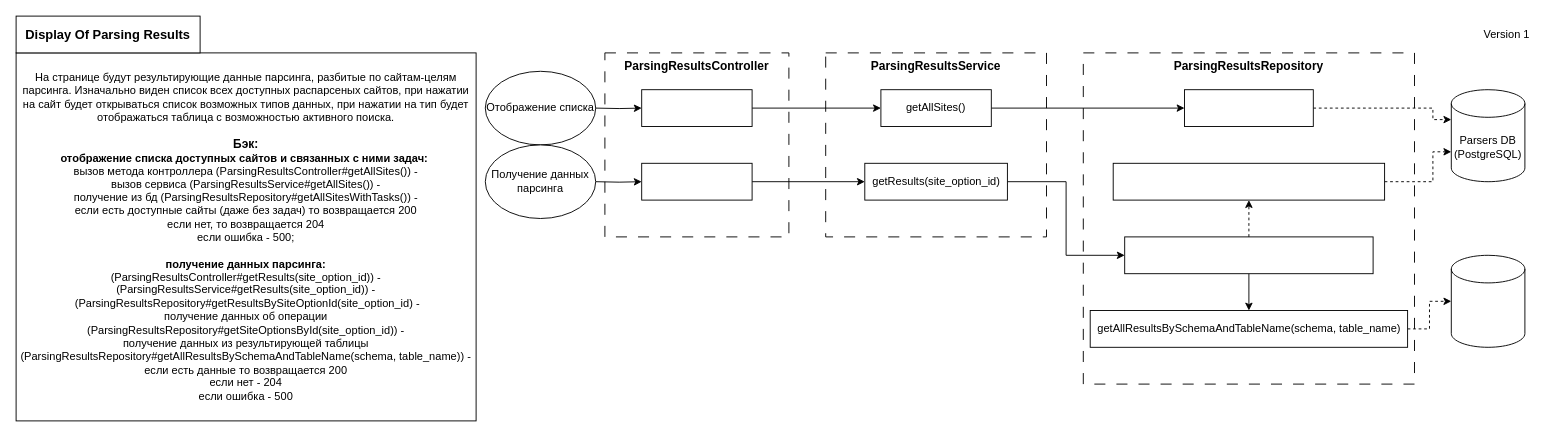
Some shapes in this 1554 by 437 pixel diagram are drawn without their labels. The centre of each missing label's shape, as x and y in pixels:
getAllSites(GET): [696,107]
getAllSitesWithTasks(): [1248,107]
getResults(GET) *site_option_id: [696,181]
getResultsBySiteOperationId(site_option_id): [1248,255]
getResultTableBySiteOperationsId(site_option_id): [1248,181]
Results DB (PostgreSQL): [1487,300]
